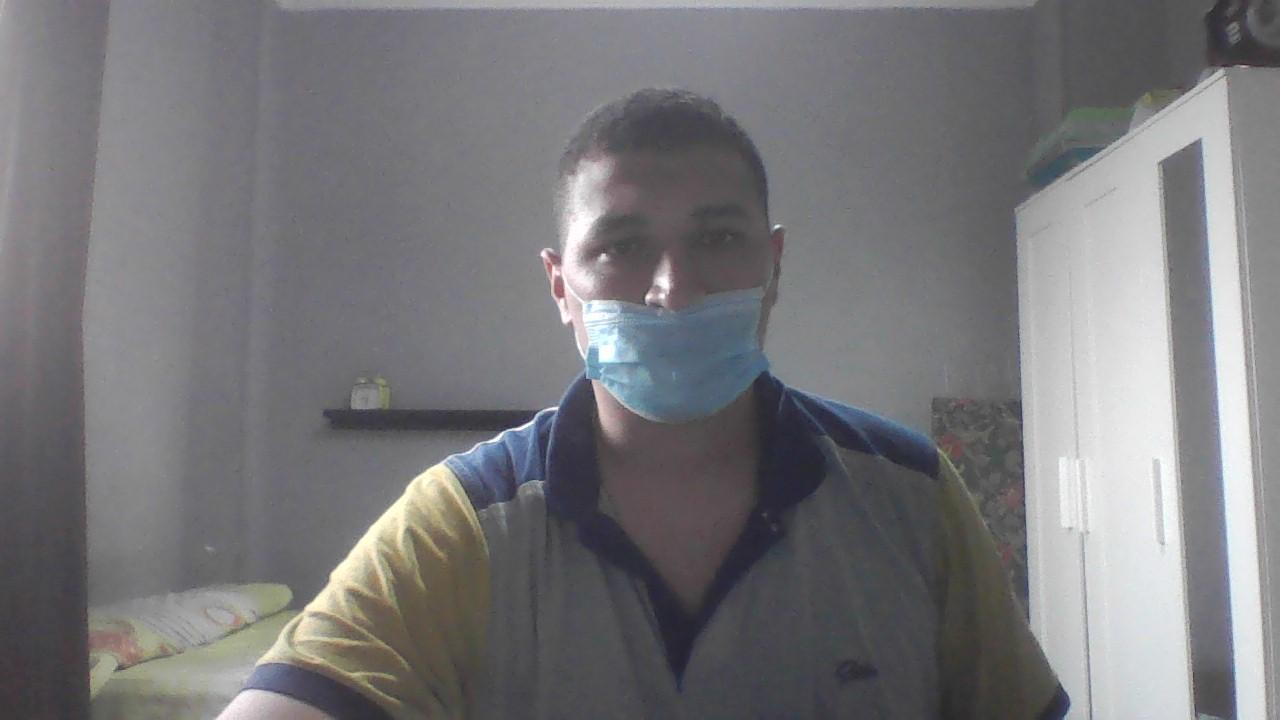mask_weared_incorrect: (572, 130, 769, 413)
